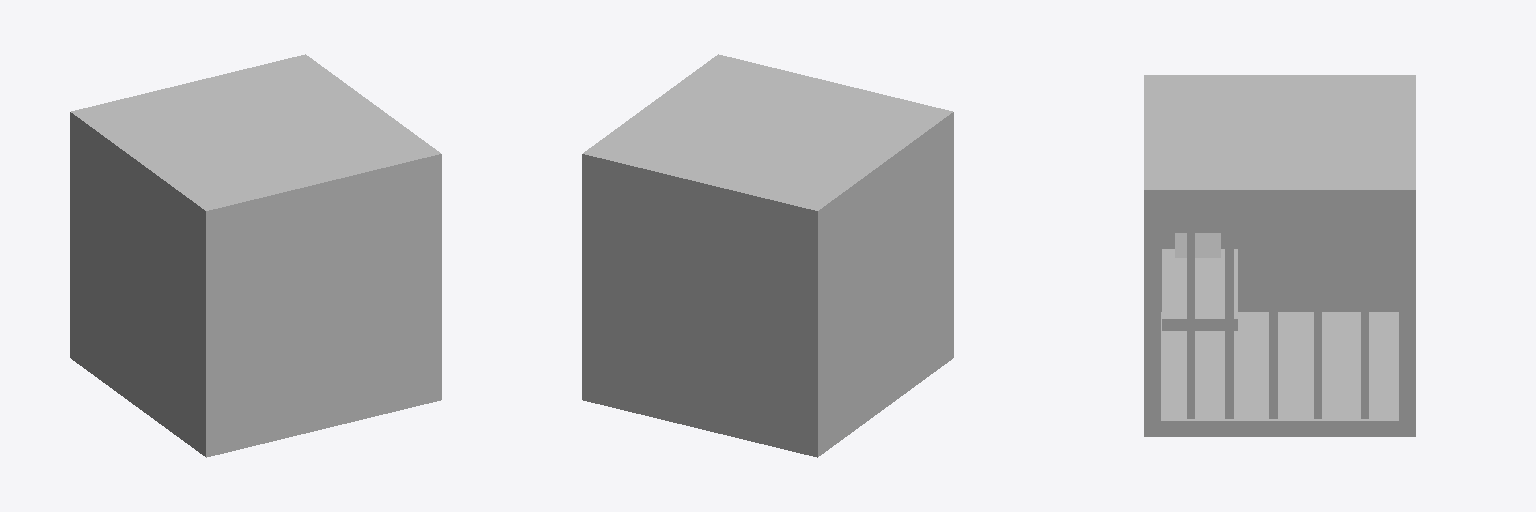
Rendered from jailcell.obj.
The picture shows the model from 3 angles: view 1: azimuth 30°, elevation 25°; view 2: azimuth 150°, elevation 25°; view 3: azimuth 270°, elevation 25°; orthographic projection.
Parts seen in each view (by area): view 1: walls; view 2: walls; view 3: walls, bed, bar2, bar3, bar4, bar5, bar1, pillow.
Boxes of the visible parts, x1,y1,x2,y2 form: walls: [70, 54, 441, 457]; walls: [582, 54, 953, 457]; walls: [1144, 75, 1415, 436]; bed: [1162, 249, 1237, 330]; bar2: [1225, 206, 1233, 418]; bar3: [1269, 206, 1277, 418]; bar4: [1314, 206, 1321, 418]; bar5: [1361, 206, 1368, 418]; bar1: [1187, 206, 1194, 418]; pillow: [1175, 233, 1220, 257].
Bounding box in the file's own units: 1.31 × 1.31 × 1.31.